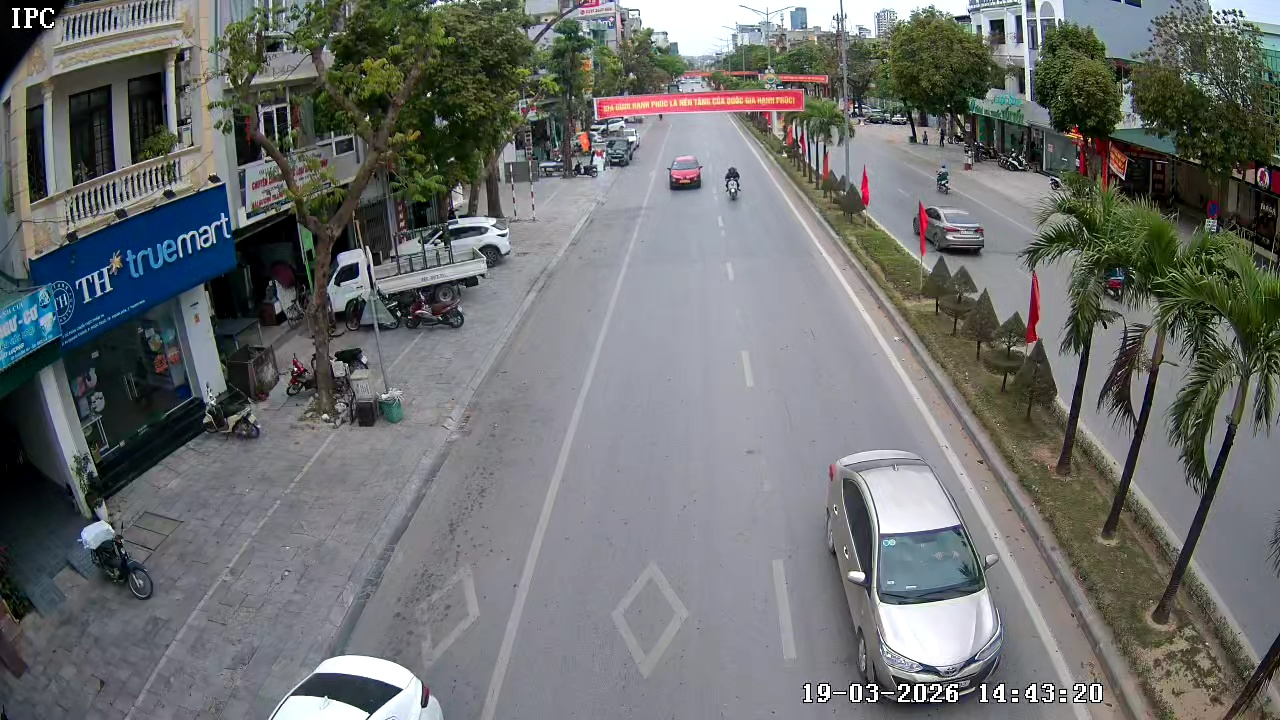car: (823, 447, 1009, 710), (912, 200, 987, 255), (666, 154, 704, 191), (606, 129, 635, 167)
motorbike: (75, 514, 156, 600), (403, 273, 467, 331), (722, 163, 743, 203), (934, 162, 951, 194)
